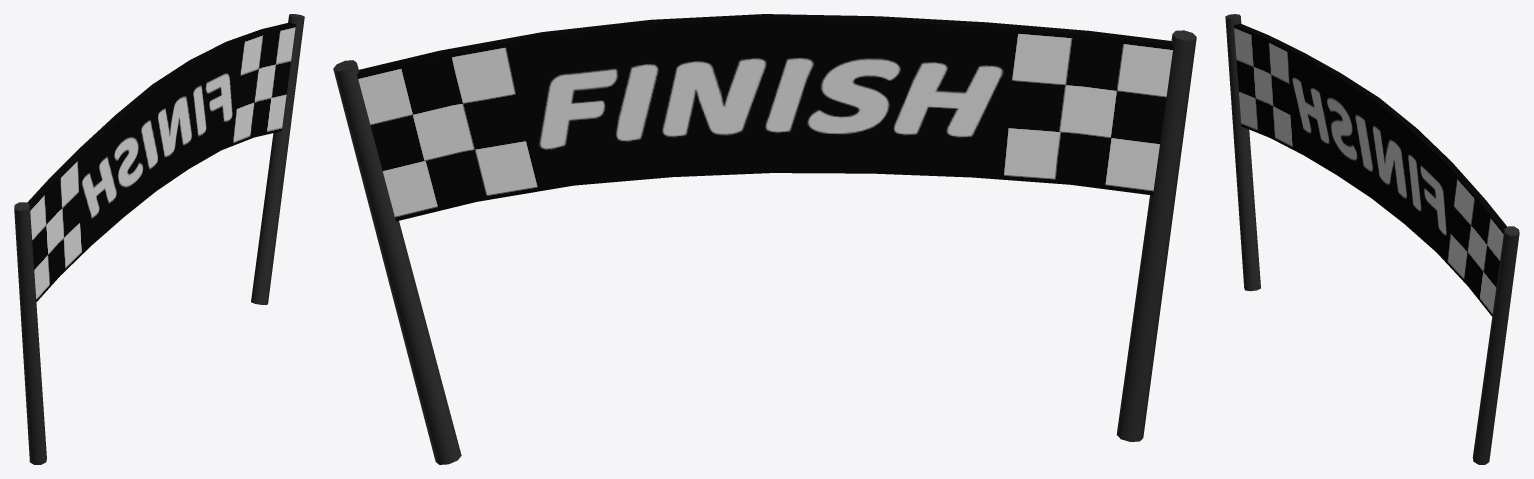
The model's file is Map01_FinishFlag.fbx.
The picture shows the model from 3 angles, left to right: view 1: azimuth 30°, elevation 25°; view 2: azimuth 150°, elevation 25°; view 3: azimuth 270°, elevation 25°; orthographic projection. The views are drawn at different scales.
Visible parts, largest first — view 1: FinishFlag; view 2: FinishFlag; view 3: FinishFlag.
Boxes of the visible parts, box(x1,y1,x2,y2) form: FinishFlag: box(14, 14, 304, 464); FinishFlag: box(333, 14, 1196, 464); FinishFlag: box(1225, 14, 1519, 464).
Size of the model in its own units: 777 by 511 by 473.
